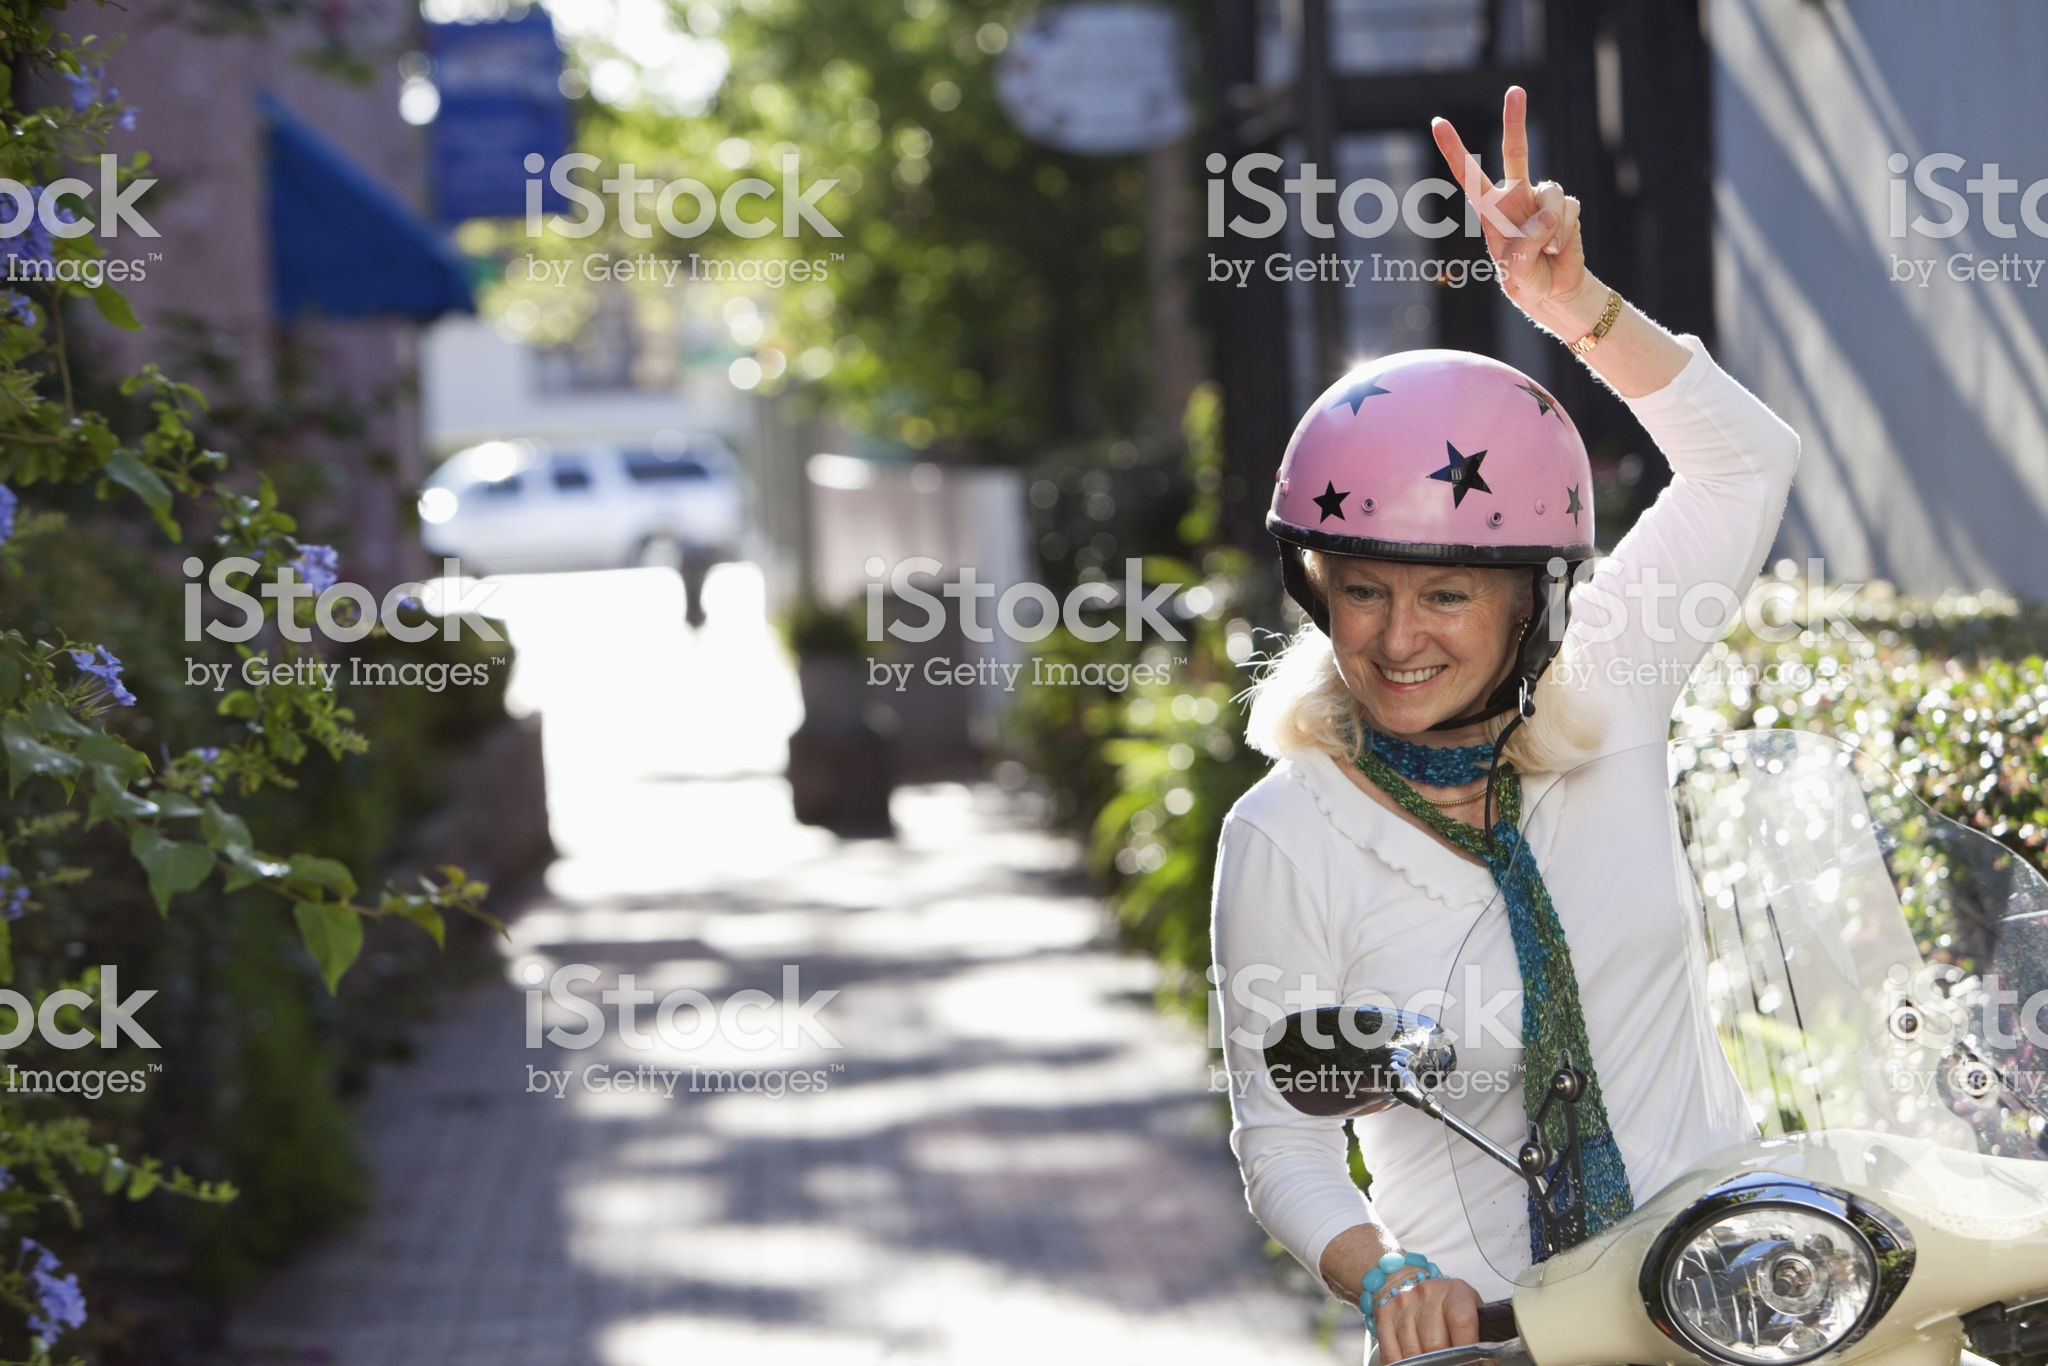helmet: (1262, 335, 1637, 590)
